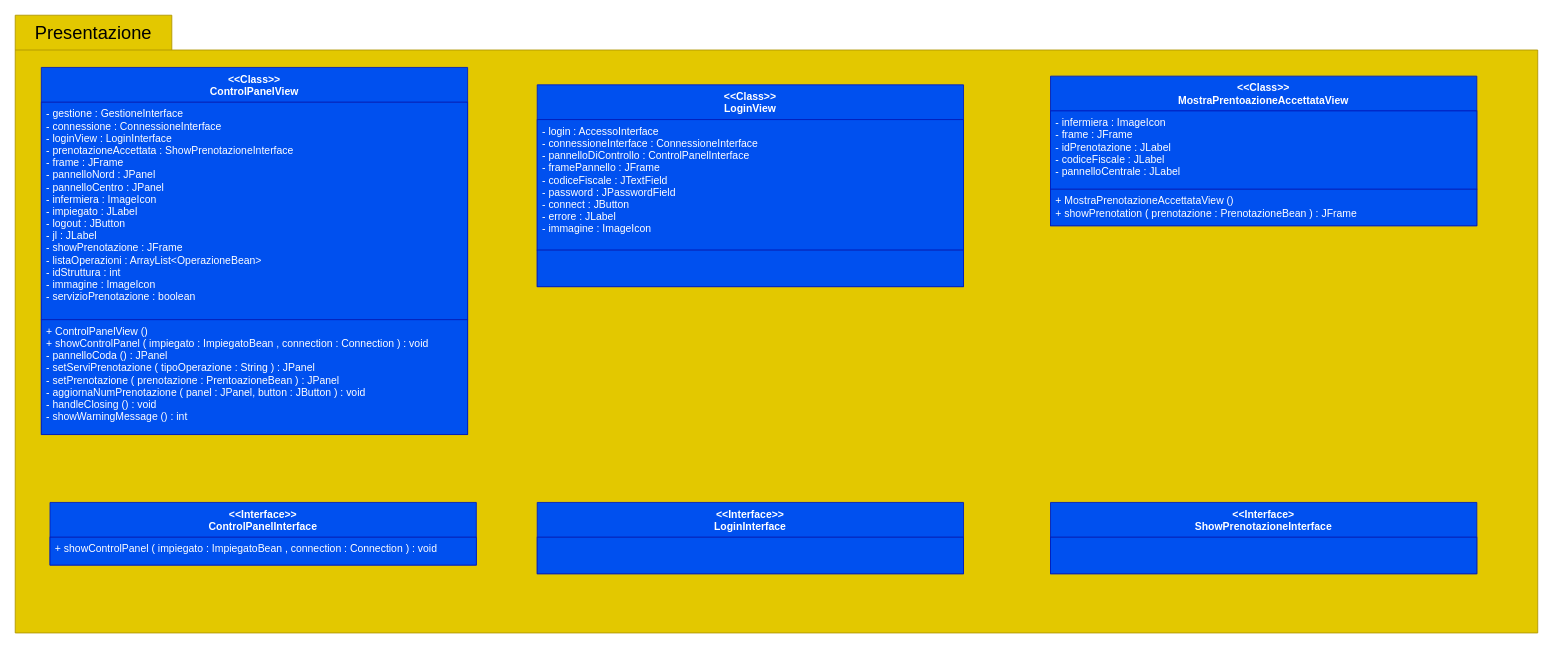
The diagram is 1553 pixels wide and 648 high, and some of its shapes have lost their labels. The centre of each missing label's shape, as x and y in pixels:
"+ LoginView () + showLoginView () : void" goes at (x=750, y=268).
"+ showLoginView () : void" goes at (x=750, y=555).
"+ showPrenotation ( prenotazione : PrenotazioneBean ) : JFrame" goes at (x=1263, y=555).
